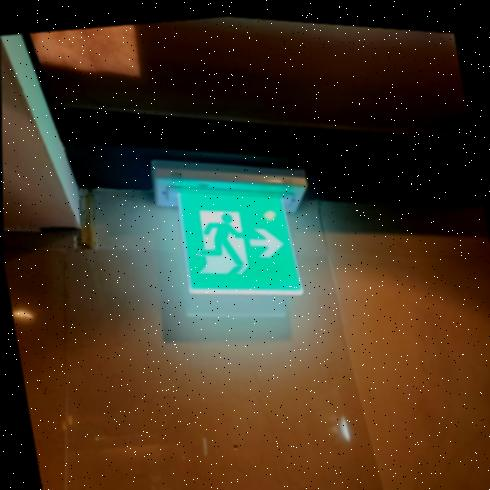emergency_exit: (150, 159, 310, 343), (151, 161, 309, 297), (170, 180, 305, 297)
